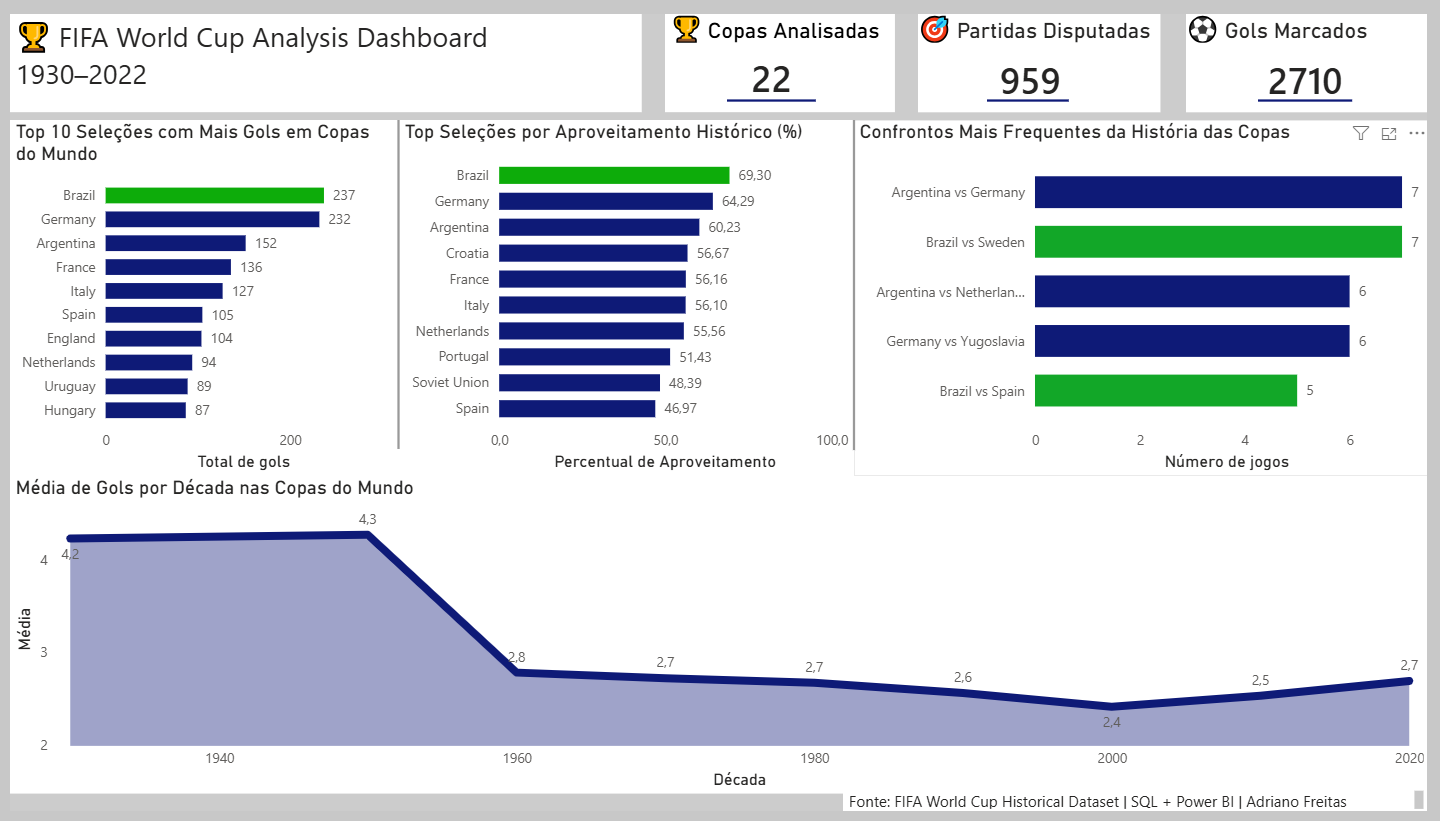

This screenshot's page, from the dashboard's own definition file:
{"tool":"powerbi","page":{"name":"Página 1","canvas":[1280,720],"ordinal":0},"visuals":[{"type":"barChart","title":"Top 10 Seleções com Mais Gols em Copas do Mundo","fields":{"Category":["top_gols_selecoes.selecao"],"Y":["Sum(top_gols_selecoes.total_gols)"]},"box":[21.8,110,341.8,312.7],"z":0},{"type":"clusteredBarChart","title":"Top Seleções por Aproveitamento Histórico (%)","fields":{"Category":["aproveitamento_selecoes.selecao"],"Y":["Max(aproveitamento_selecoes.aproveitamento_percentual)"]},"box":[363.6,110,400,312.7],"z":1000},{"type":"lineChart","title":"Média de Gols por Década nas Copas do Mundo","fields":{"Category":["media_gols_decadas.decada"],"Y":["Avg(media_gols_decadas.media_gols_por_decada)"]},"box":[21.8,422.7,1247.3,279.1],"z":2000},{"type":"textbox","box":[21.8,14.5,555.5,88.2],"z":3000},{"type":"clusteredBarChart","title":"Confrontos Mais Frequentes da História das Copas","fields":{"Category":["maiores_confrontos.confronto"],"Y":["Sum(maiores_confrontos.total_jogos)"]},"box":[763.6,110,505.5,312.7],"z":4000},{"type":"cardVisual","title":"🏆 Copas Analisadas","fields":{"Data":["top_gols_selecoes.Total_Copas"]},"box":[597.3,14.5,201.8,88.2],"z":5000},{"type":"cardVisual","title":"🎯 Partidas Disputadas","fields":{"Data":["top_gols_selecoes.Total_Partidas"]},"box":[820,14.5,212.7,88.2],"z":6000},{"type":"cardVisual","title":"⚽ Gols Marcados","fields":{"Data":["top_gols_selecoes.Total_Gols_Card"]},"box":[1055.5,14.5,213.6,88.2],"z":7000},{"type":"shape","box":[651.8,52.7,78.2,80],"z":8000},{"type":"shape","box":[880,52.7,71.8,80],"z":9000},{"type":"shape","box":[1118.2,52.7,82.7,80],"z":10000},{"type":"shape","box":[298.2,110,130.9,289.1],"z":11000},{"type":"shape","box":[698.2,110,130,290],"z":12000},{"type":"textbox","box":[753.6,693.6,515.5,26.4],"z":13000}]}

Visuals, with their boxes in screenshot pixels (x1, y1, x2, y2), scaled from the page's 1280x720 canvas onto the 1440x821 screenshot:
"Top 10 Seleções com Mais Gols em Copas do Mundo" barChart: box(25, 125, 409, 482)
"Top Seleções por Aproveitamento Histórico (%)" clusteredBarChart: box(409, 125, 859, 482)
"Média de Gols por Década nas Copas do Mundo" lineChart: box(25, 482, 1428, 800)
textbox: box(25, 17, 649, 117)
"Confrontos Mais Frequentes da História das Copas" clusteredBarChart: box(859, 125, 1428, 482)
"🏆 Copas Analisadas" cardVisual: box(672, 17, 899, 117)
"🎯 Partidas Disputadas" cardVisual: box(922, 17, 1162, 117)
"⚽ Gols Marcados" cardVisual: box(1187, 17, 1428, 117)
shape: box(733, 60, 821, 151)
shape: box(990, 60, 1071, 151)
shape: box(1258, 60, 1351, 151)
shape: box(335, 125, 483, 455)
shape: box(785, 125, 932, 456)
textbox: box(848, 791, 1428, 820)
